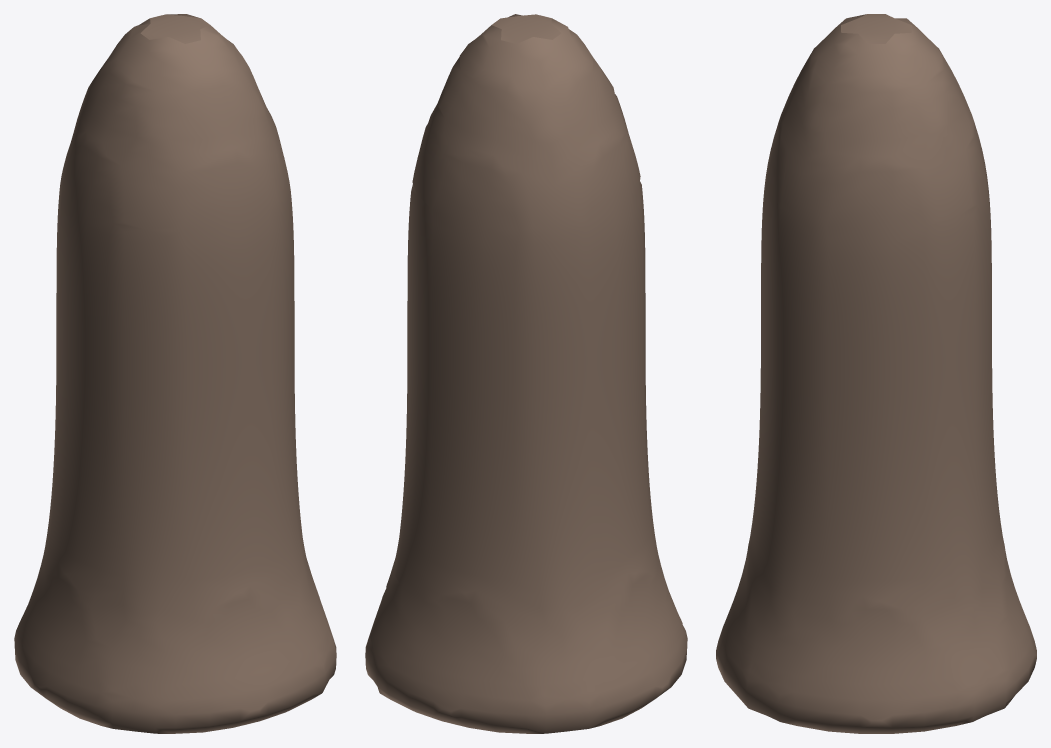
File: MushroomStem.fbx
The picture shows the model from 3 angles, left to right: view 1: azimuth 30°, elevation 25°; view 2: azimuth 150°, elevation 25°; view 3: azimuth 270°, elevation 25°; orthographic projection.
Parts seen in each view (by area): view 1: Cube.001; view 2: Cube.001; view 3: Cube.001.
Part boxes in pixels (x1,y1,x2,y2): Cube.001: (14, 14, 336, 733); Cube.001: (365, 14, 687, 733); Cube.001: (716, 14, 1036, 733).
Size of the model in its own units: 78.77 by 179 by 78.77.
